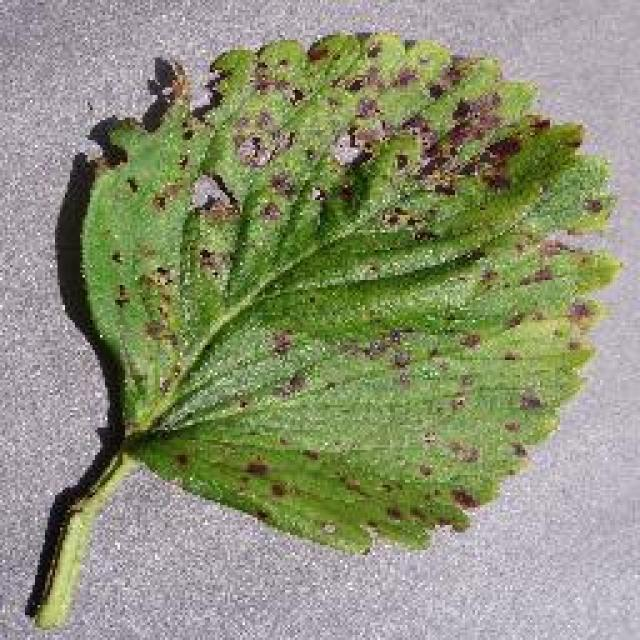Strawberry___Leaf_scorch: (13, 10, 635, 638)
